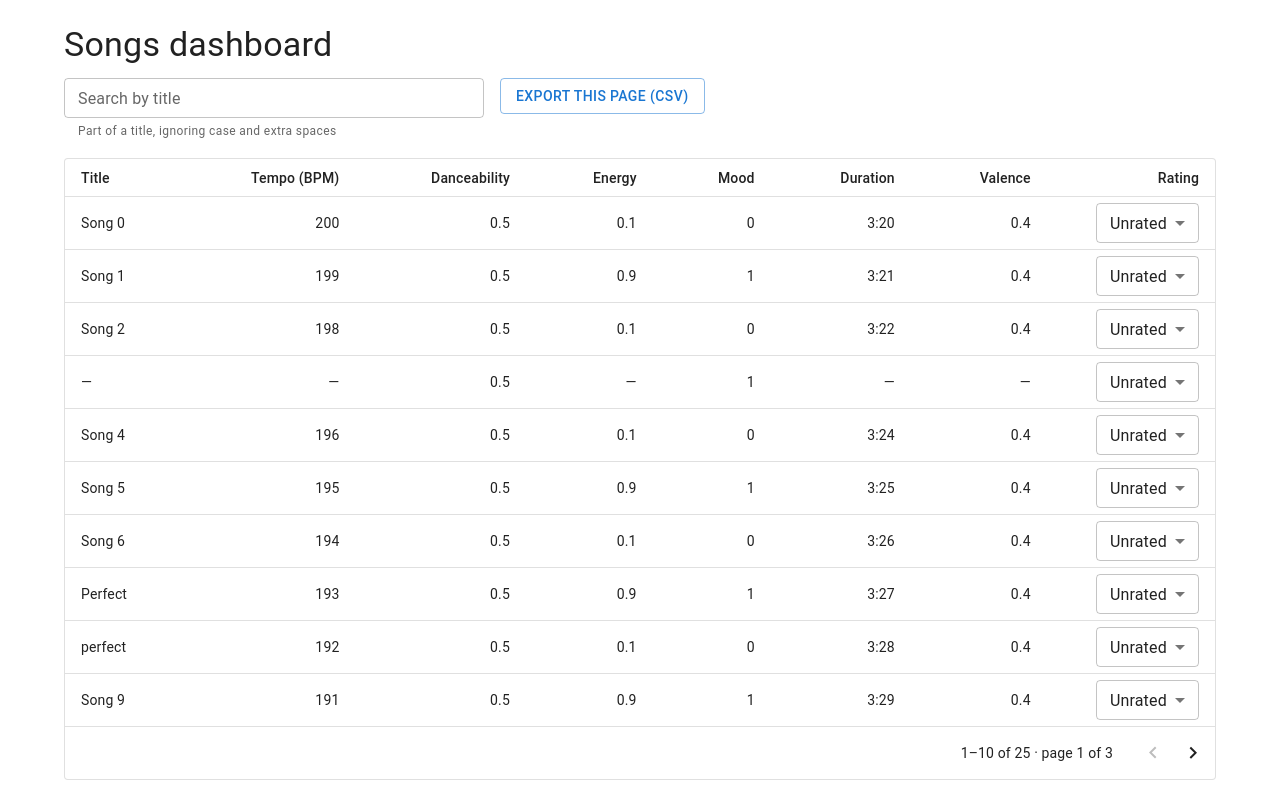
it: loading and display › shows correct pagination metadata and moves between pages
Expected: the text "1–10 of 25 · page 1 of 3" is shown, [961, 743, 1113, 763]
Expected: the button named "previous page" is disabled, [1133, 733, 1173, 773]
Click the button named "next page" at (1193, 753), box [1173, 733, 1213, 773]
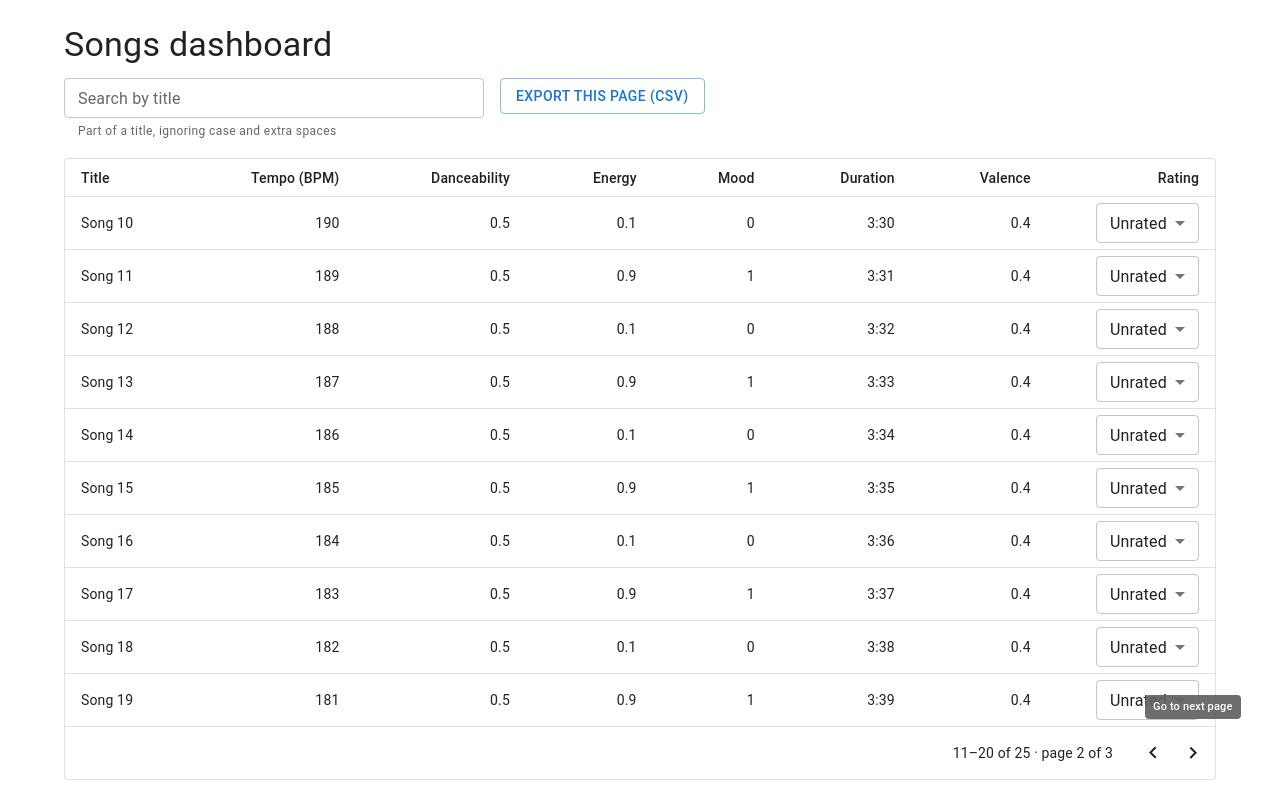
Now the text "11–20 of 25 · page 2 of 3" is shown, box [953, 743, 1113, 763]
Now the cell "Song 10" is shown, box [65, 197, 173, 250]
Click the button named "next page" at (1193, 753), box [1173, 733, 1213, 773]
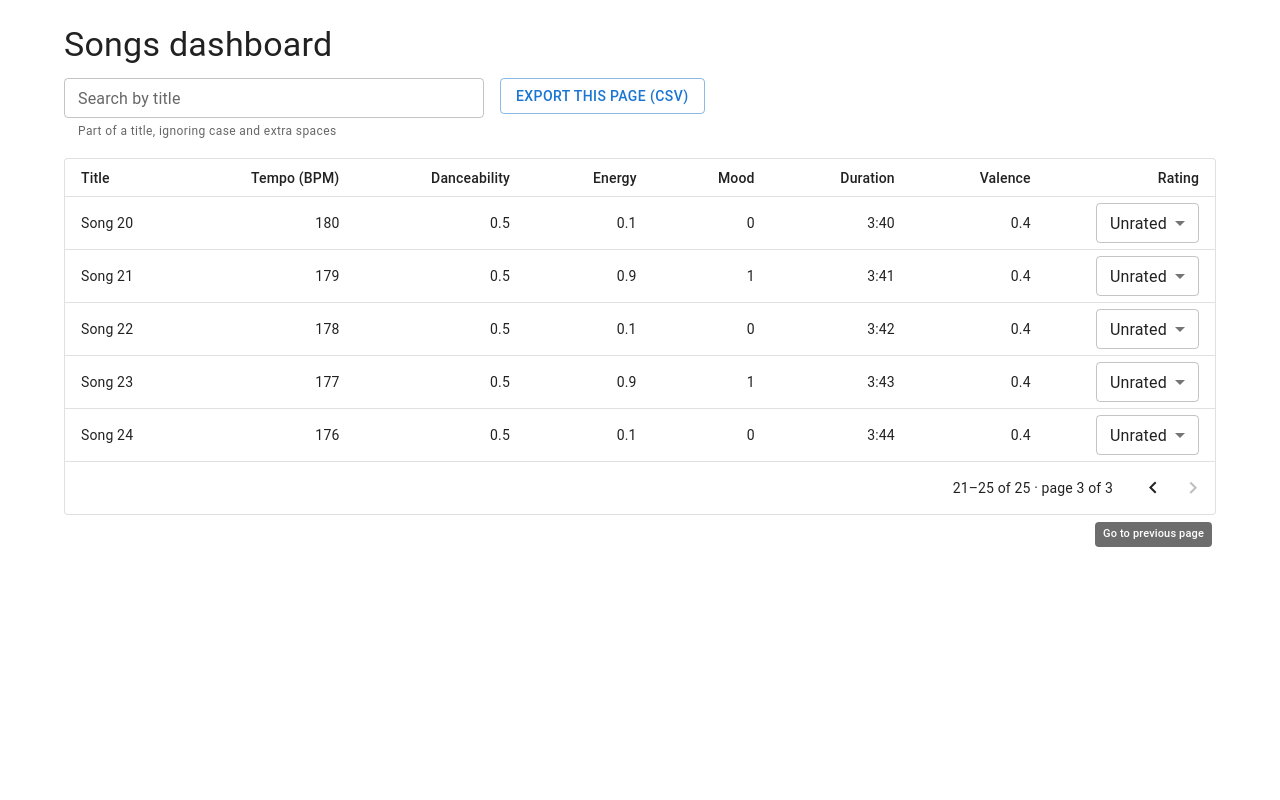
Now the text "21–25 of 25 · page 3 of 3" is shown, box [953, 478, 1113, 498]
Now the button named "next page" is disabled, box [1173, 468, 1213, 508]
Click the button named "previous page" at (1153, 488), box [1133, 468, 1173, 508]
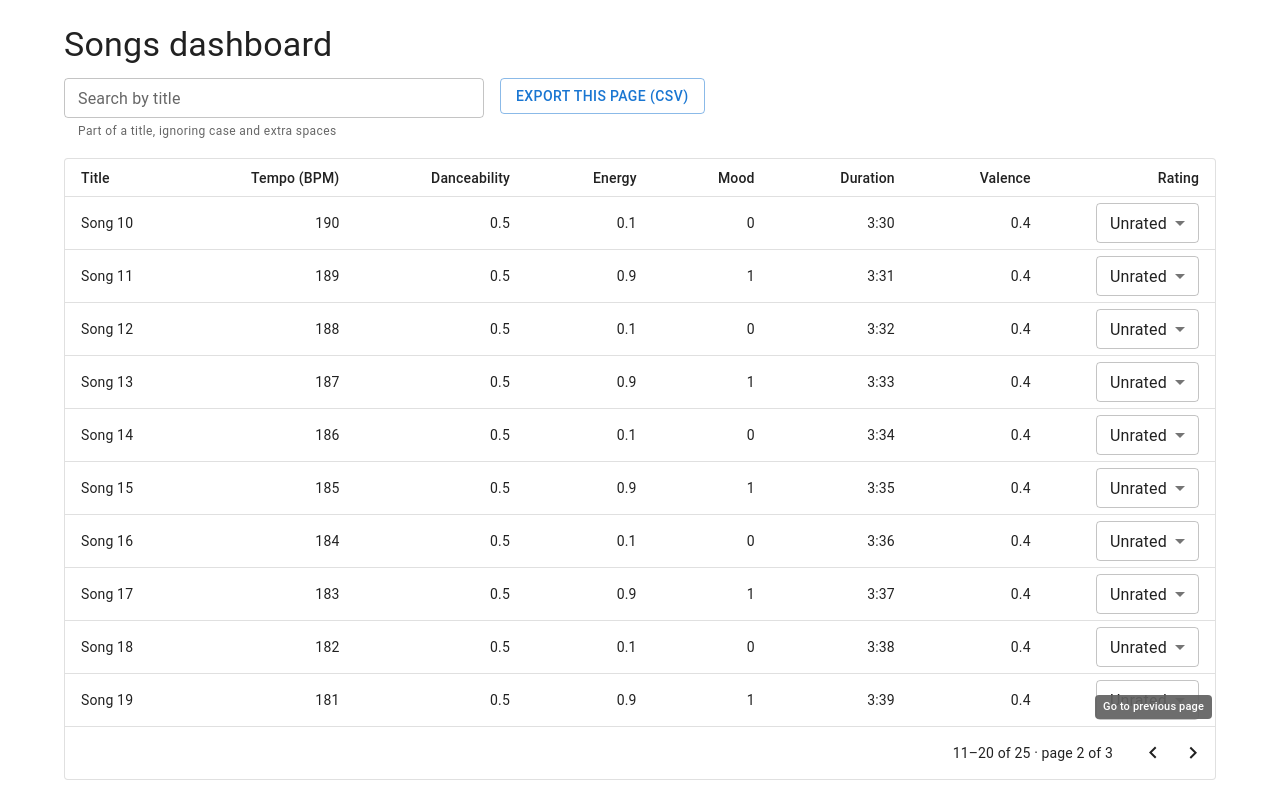
Now the text "11–20 of 25 · page 2 of 3" is shown, box [953, 743, 1113, 763]
